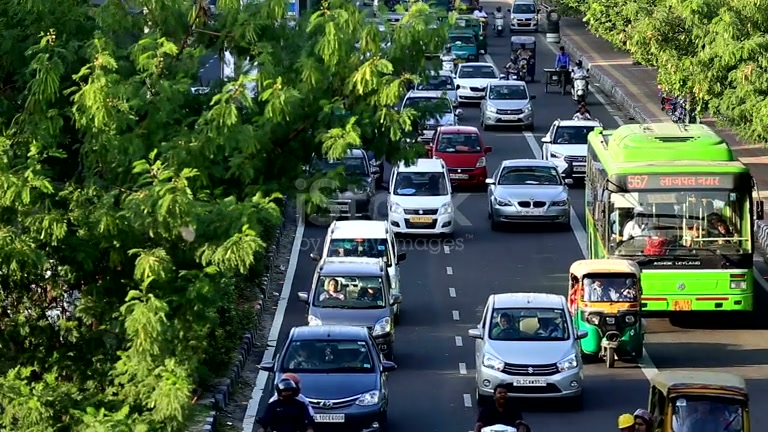bus: (583, 120, 757, 324)
car: (468, 292, 588, 409), (272, 324, 398, 430), (624, 368, 753, 431), (485, 158, 572, 232), (387, 157, 456, 237), (424, 125, 492, 188), (540, 119, 603, 185), (479, 80, 536, 132), (454, 62, 502, 105), (511, 1, 539, 30)
pedestrian: (252, 374, 317, 431), (473, 383, 532, 432), (622, 208, 652, 239), (554, 46, 572, 93), (491, 312, 521, 338), (706, 213, 730, 238), (322, 278, 345, 304), (555, 46, 571, 75)
truck: (302, 219, 406, 362), (629, 368, 753, 431), (302, 145, 381, 227)
